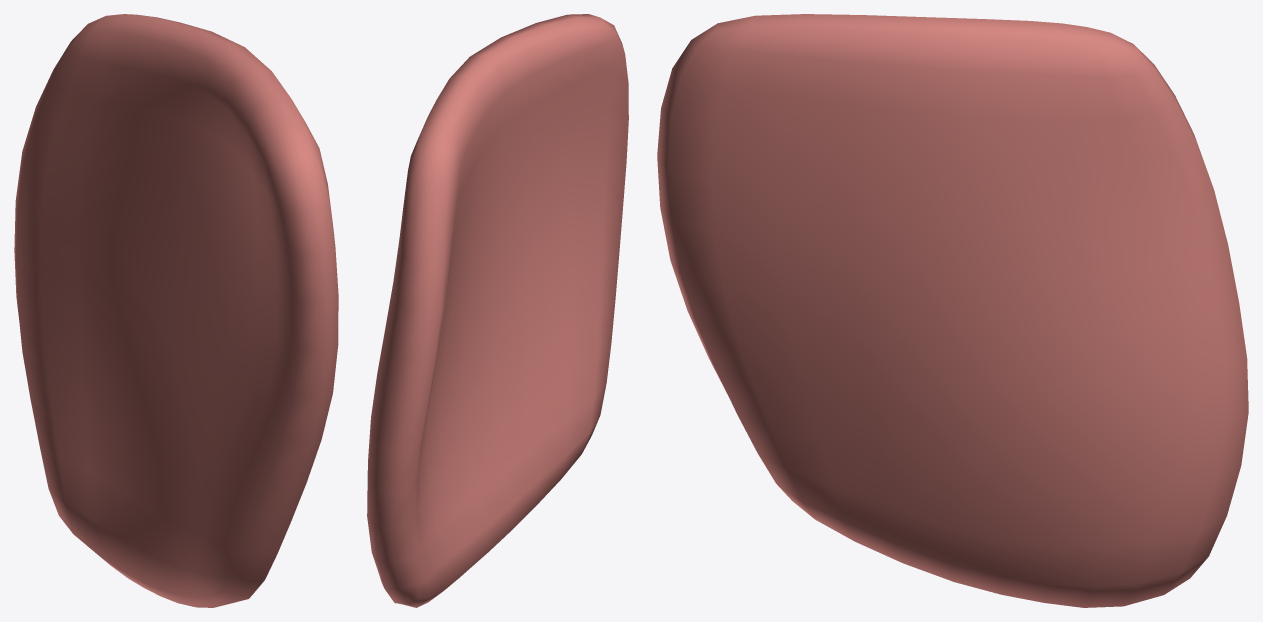
3 views of the same model, side by side, from view 1: azimuth 30°, elevation 25°; view 2: azimuth 150°, elevation 25°; view 3: azimuth 270°, elevation 25° (orthographic). The views are drawn at different scales.
Parts seen in each view (by area): view 1: ZA_c745c64bb6b7579b; view 2: ZA_c745c64bb6b7579b; view 3: ZA_c745c64bb6b7579b.
Part boxes in pixels (<box>): ZA_c745c64bb6b7579b: <box>14,14,338,607</box>; ZA_c745c64bb6b7579b: <box>367,14,628,607</box>; ZA_c745c64bb6b7579b: <box>657,14,1248,607</box>.
Bounding box in the file's own units: 0.00421 × 0.0202 × 0.0181.
